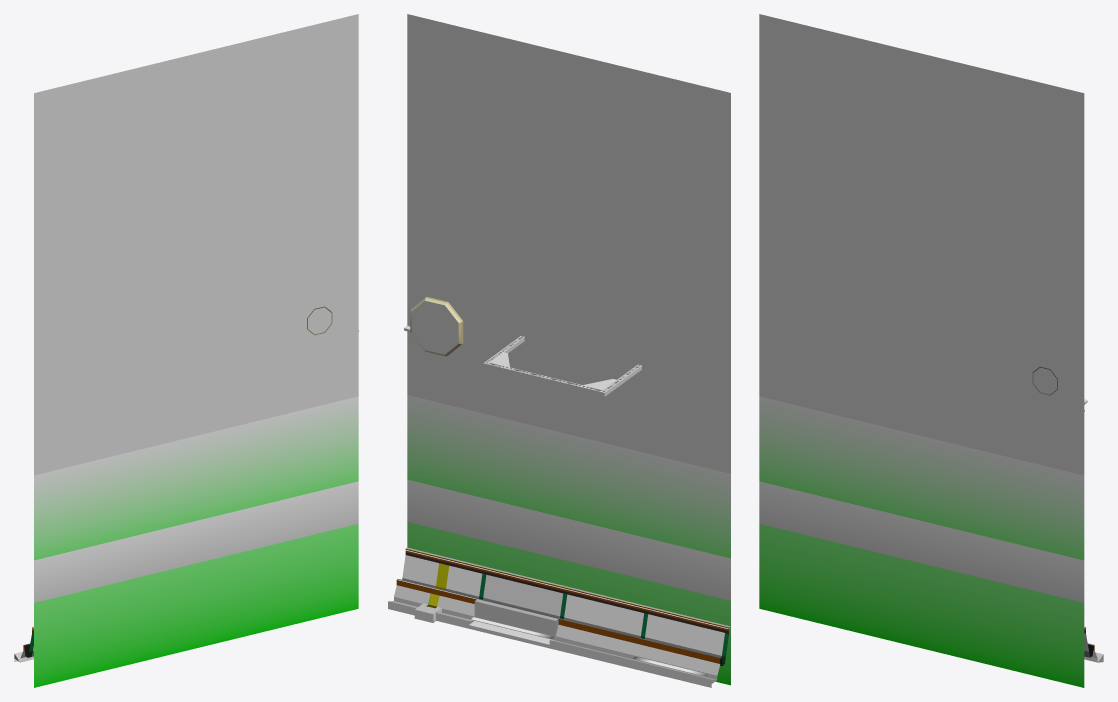
3 renders of one model, left to right at view 1: azimuth 30°, elevation 25°; view 2: azimuth 150°, elevation 25°; view 3: azimuth 330°, elevation 25°, orthographic.
Parts seen in each view (by area): view 1: JOBJ_0_DOBJ_35, JOBJ_0_DOBJ_38, JOBJ_0_DOBJ_39, JOBJ_0_DOBJ_37; view 2: JOBJ_0_DOBJ_35, JOBJ_0_DOBJ_38, JOBJ_0_DOBJ_39, JOBJ_0_DOBJ_20, JOBJ_0_DOBJ_25, JOBJ_0_DOBJ_15, JOBJ_0_DOBJ_22, JOBJ_0_DOBJ_17, JOBJ_0_DOBJ_4, JOBJ_2_DOBJ_1, JOBJ_0_DOBJ_12, JOBJ_4_DOBJ_78.001 (+3 smaller); view 3: JOBJ_0_DOBJ_35, JOBJ_0_DOBJ_38, JOBJ_0_DOBJ_39, JOBJ_0_DOBJ_37.
Boxes of the visible parts, <box> form: JOBJ_0_DOBJ_35: <box>34,14,358,475</box>; JOBJ_0_DOBJ_38: <box>34,396,358,687</box>; JOBJ_0_DOBJ_39: <box>34,481,358,602</box>; JOBJ_0_DOBJ_37: <box>298,295,350,354</box>; JOBJ_0_DOBJ_35: <box>407,14,730,473</box>; JOBJ_0_DOBJ_38: <box>407,395,730,685</box>; JOBJ_0_DOBJ_39: <box>407,479,730,600</box>; JOBJ_0_DOBJ_20: <box>636,614,724,675</box>; JOBJ_0_DOBJ_25: <box>556,594,643,655</box>; JOBJ_0_DOBJ_15: <box>394,555,482,616</box>; JOBJ_0_DOBJ_22: <box>549,588,648,667</box>; JOBJ_0_DOBJ_17: <box>630,608,728,687</box>; JOBJ_0_DOBJ_4: <box>483,574,563,617</box>; JOBJ_2_DOBJ_1: <box>411,301,458,354</box>; JOBJ_0_DOBJ_12: <box>388,549,486,628</box>; JOBJ_4_DOBJ_78.001: <box>483,336,641,396</box>; JOBJ_0_DOBJ_35: <box>759,14,1084,475</box>; JOBJ_0_DOBJ_38: <box>759,396,1084,687</box>; JOBJ_0_DOBJ_39: <box>759,481,1084,602</box>; JOBJ_0_DOBJ_37: <box>1023,357,1075,417</box>.
Bounding box in the file's own units: 642 × 129 × 1120.
